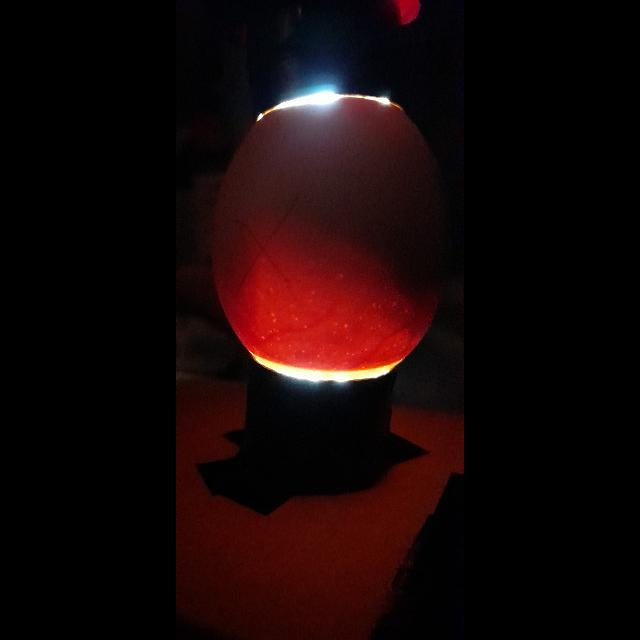Fertile: (209, 96, 439, 380)
